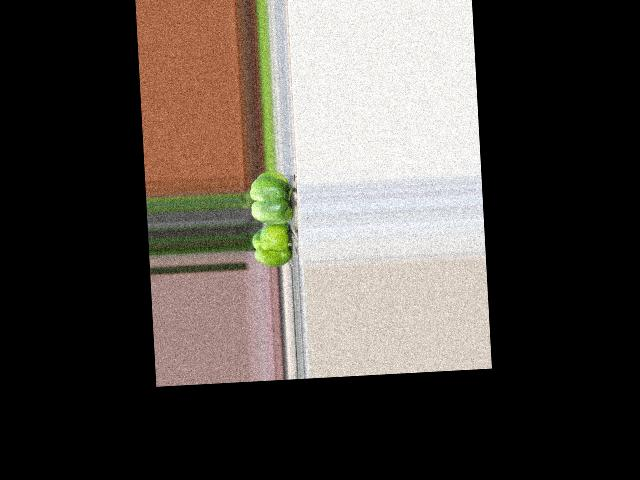bell_pepper: (249, 222, 296, 269)
